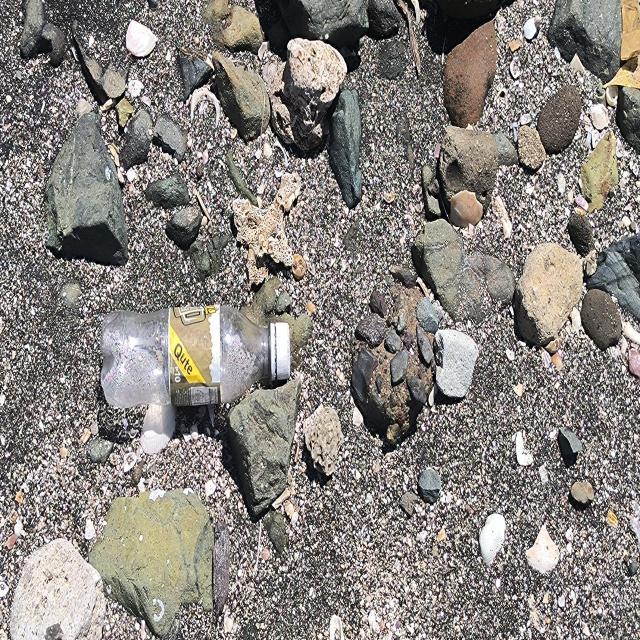plastic_waste: (100, 304, 292, 412)
